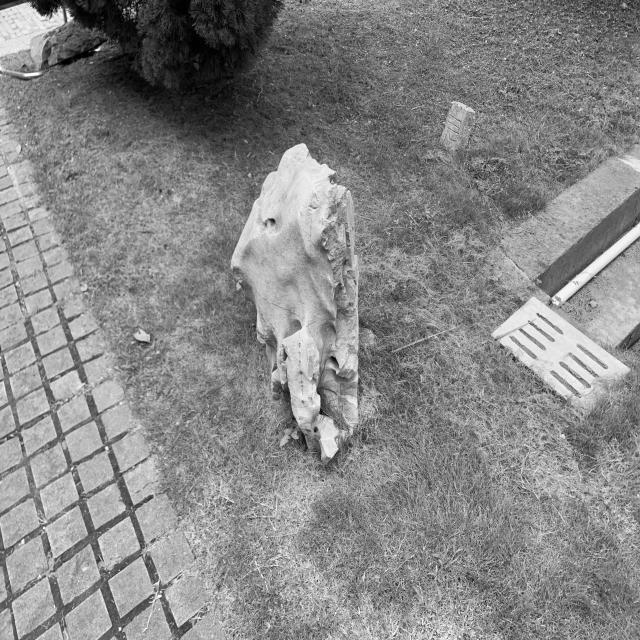Stone: (231, 144, 359, 462)
